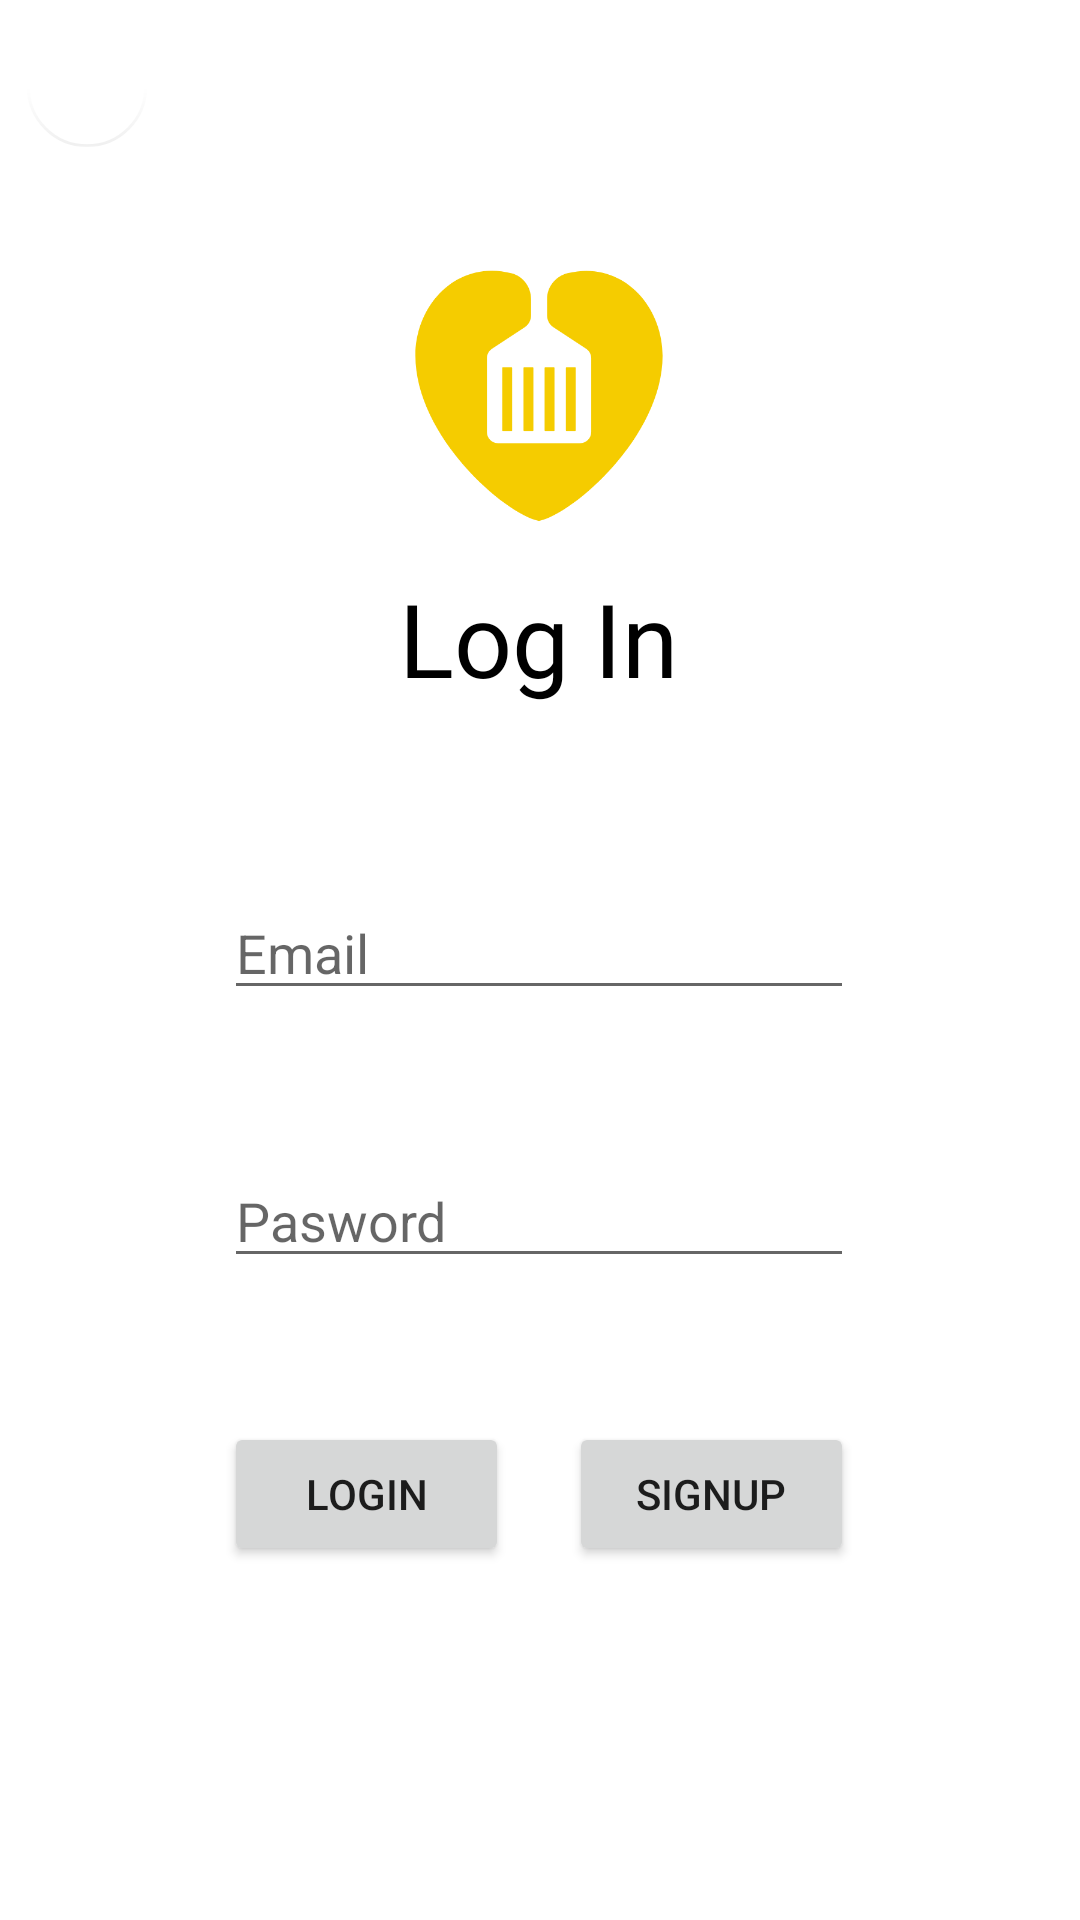

Icons on this 1080 x 1920 Android screen, each with the point to tap as point (x, y):
foodies: point (539, 395)
